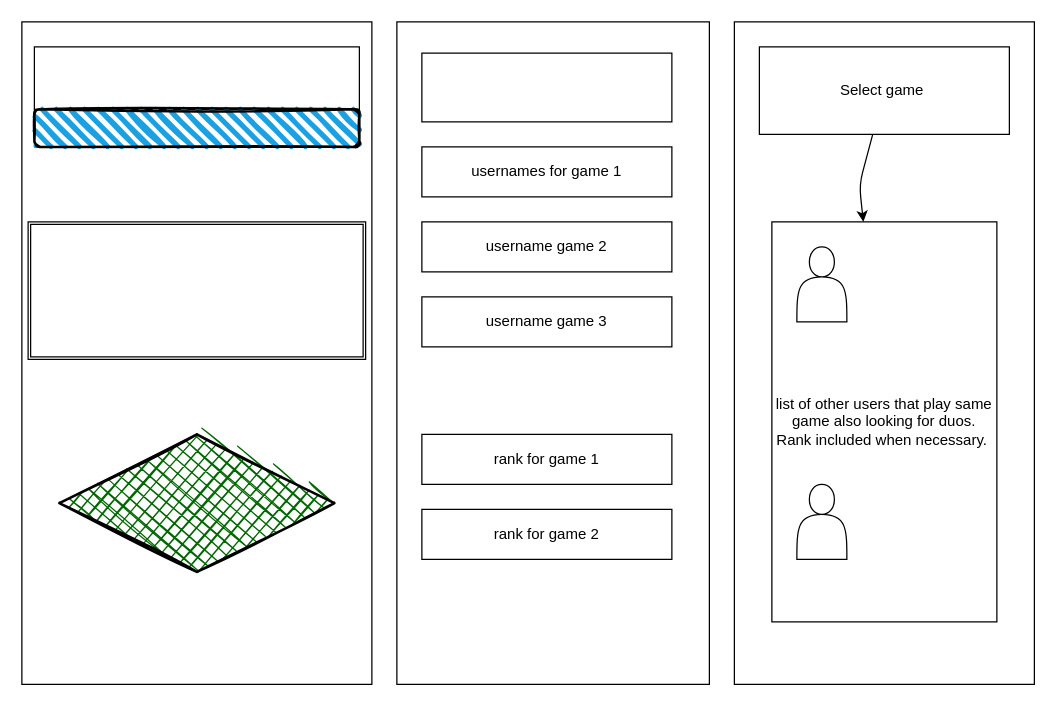
This 1056x706 diagram has some shape labels left out. The centre of each missing label's shape, as x and y in pixels:
Create an account, start climbing.: the point at 196,290
Duo Finder: the point at 196,77
Games you play. (drop down menu): the point at 546,87
